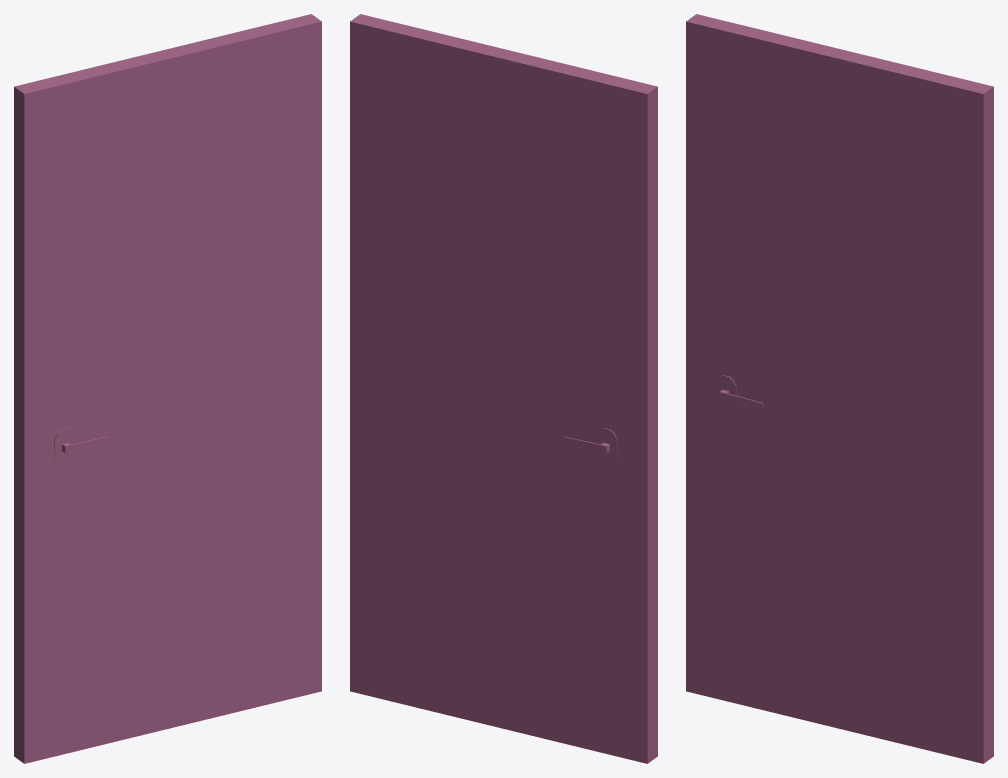
The model's file is DoorSingle.fbx.
3 renders of one model, left to right at view 1: azimuth 30°, elevation 25°; view 2: azimuth 150°, elevation 25°; view 3: azimuth 330°, elevation 25°, orthographic.
Parts seen in each view (by area): view 1: DoorSingle; view 2: DoorSingle; view 3: DoorSingle.
Part boxes in pixels (x1,y1,x2,y2): DoorSingle: [14, 14, 321, 763]; DoorSingle: [350, 14, 657, 763]; DoorSingle: [686, 14, 993, 763].
Size of the model in its own units: 116 by 250 by 12.05.
